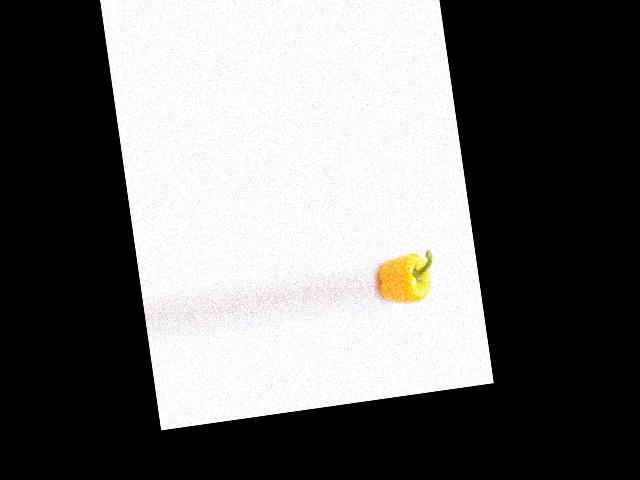bell_pepper: (373, 248, 437, 312)
